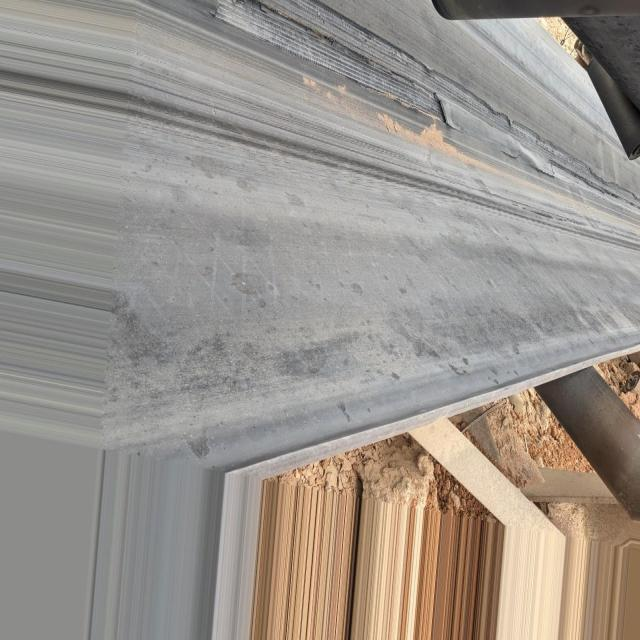Roller: (550, 369, 640, 486), (586, 49, 637, 158), (435, 0, 636, 18)
Tear: (207, 0, 640, 213)
